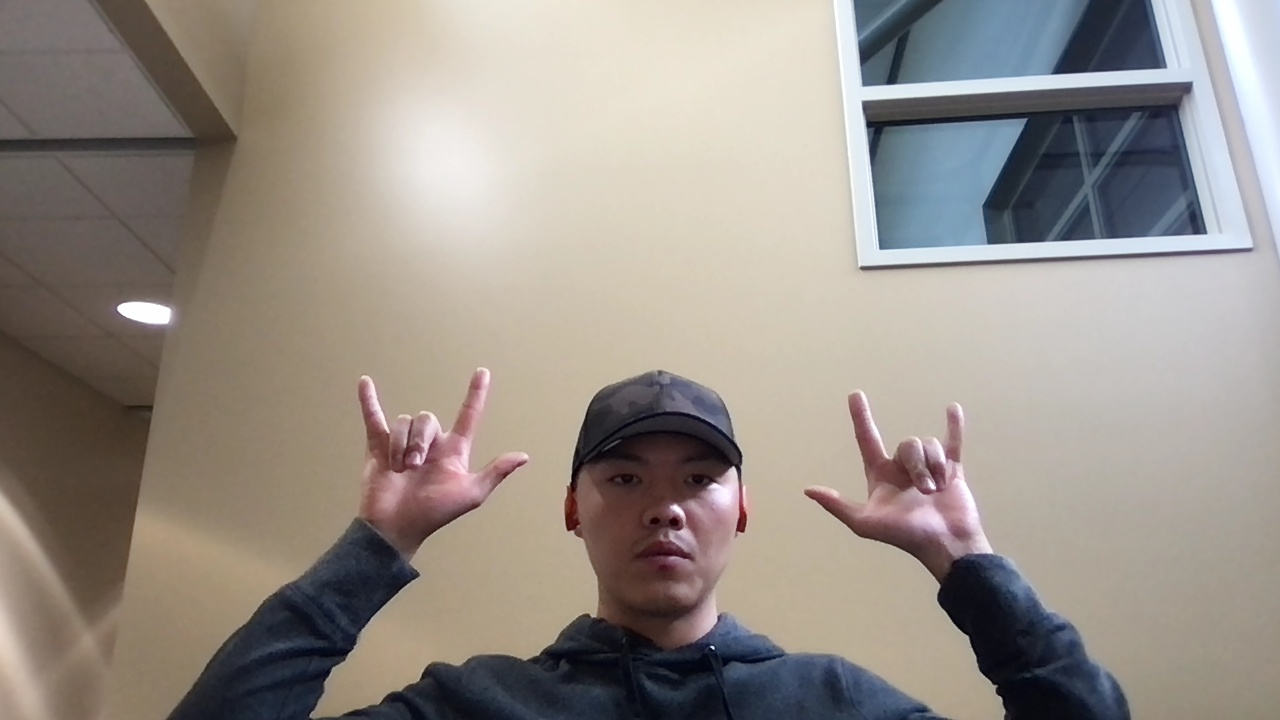I Love You: (800, 388, 994, 562), (354, 364, 533, 548)
